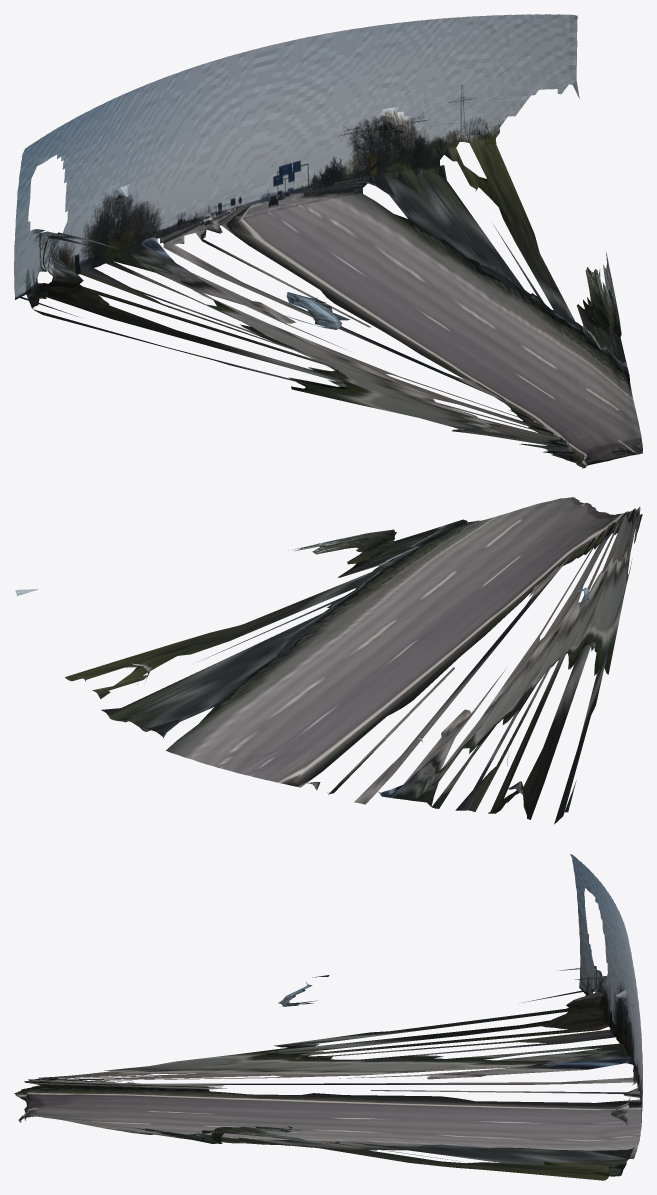
3 renders of one model, top to bottom at view 1: azimuth 30°, elevation 25°; view 2: azimuth 150°, elevation 25°; view 3: azimuth 270°, elevation 25°, orthographic. The views are drawn at different scales.
Parts seen in each view (by area): view 1: defaultobject; view 2: defaultobject; view 3: defaultobject.
Part boxes in pixels (<box>): defaultobject: <box>14,14,642,468</box>; defaultobject: <box>15,497,642,824</box>; defaultobject: <box>14,854,642,1180</box>.
Bounding box in the file's own units: 41.08 × 12.58 × 44.86.
1 material, 1 textured.
